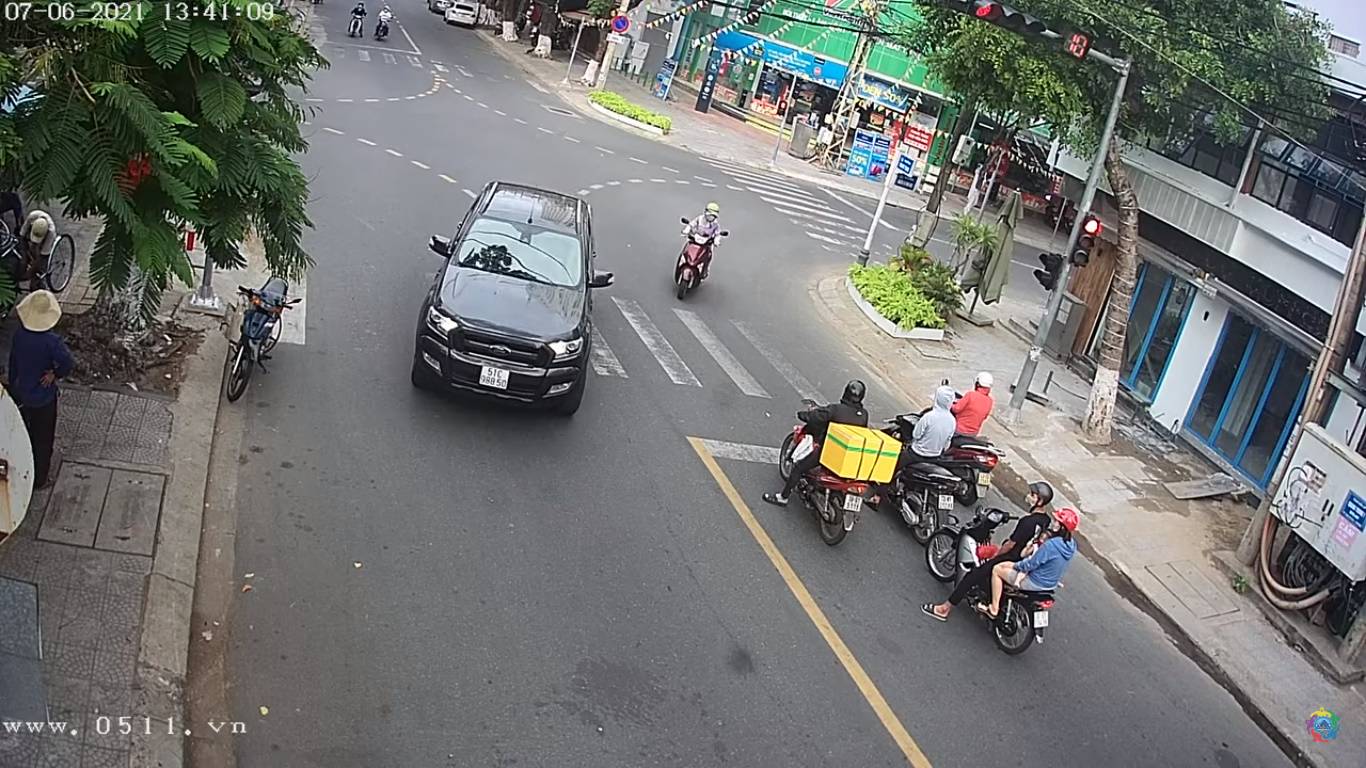car: (420, 184, 603, 417)
